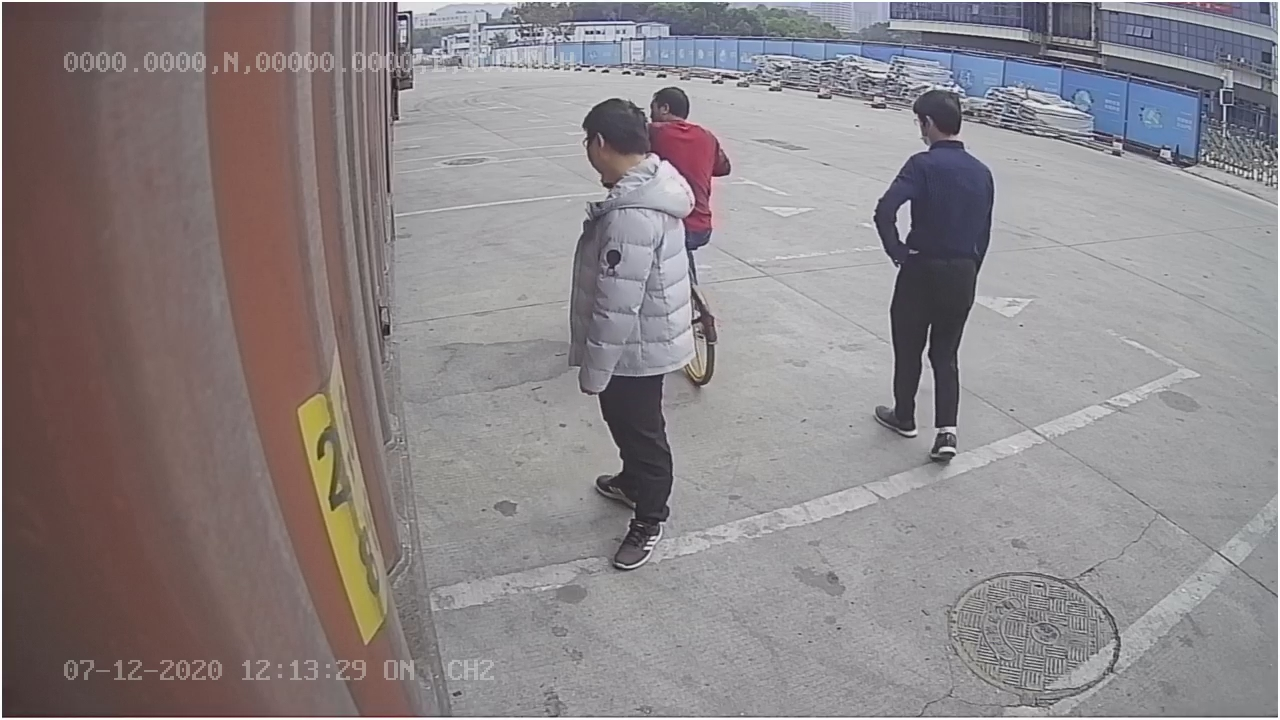person: (875, 85, 996, 464)
